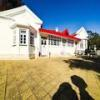chimneys: (55, 26, 58, 32)
